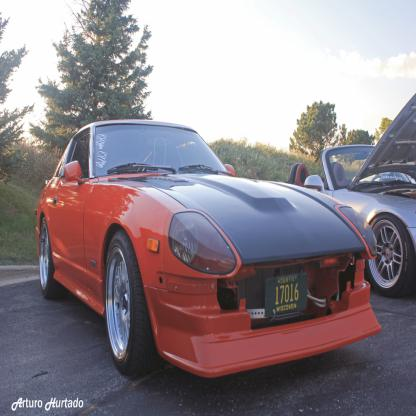Car: (34, 120, 382, 378), (283, 90, 416, 299)
